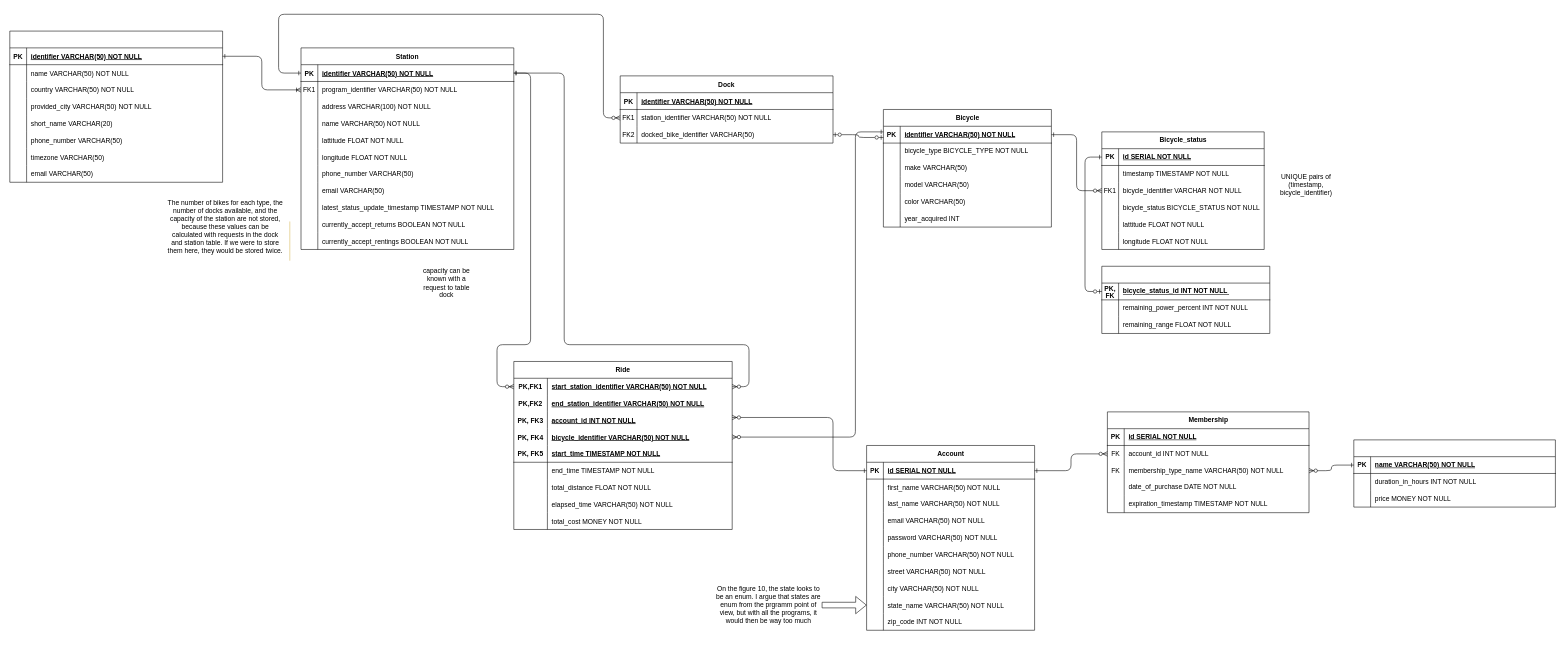
The diagram is 1565 pixels wide and 648 high, and some of its shapes have lost their labels. Each missing label, with the box of its shape:
E_bicycle_status: (1101, 266, 1270, 333)
Membership_type: (1353, 439, 1555, 507)
Program: (9, 31, 223, 182)
